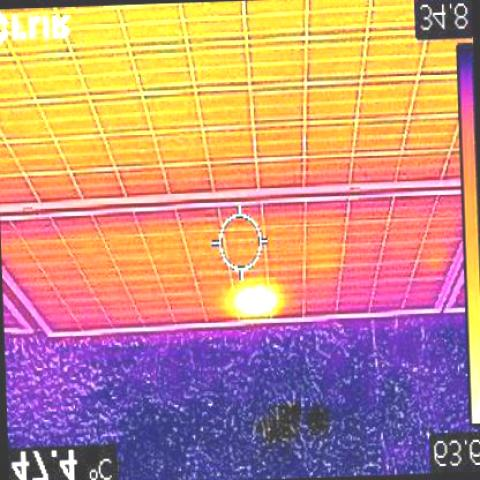fault: (237, 282, 273, 313)
